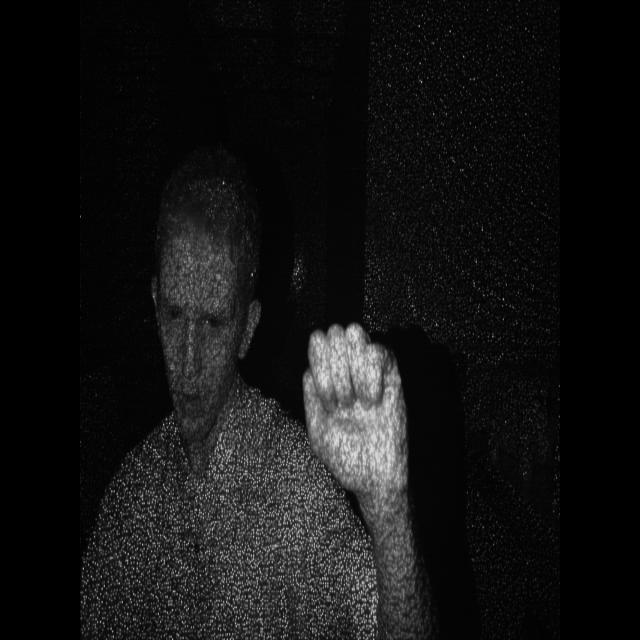M: (288, 315, 429, 506)
